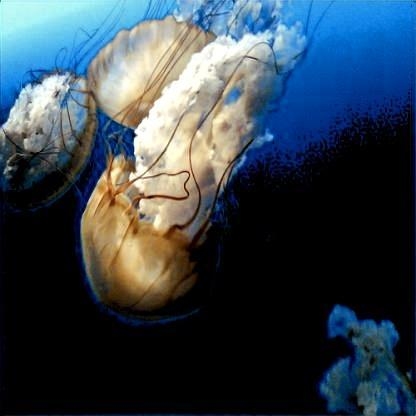Dressed: (79, 29, 295, 323), (86, 15, 231, 137), (4, 68, 100, 208), (327, 313, 413, 409)
